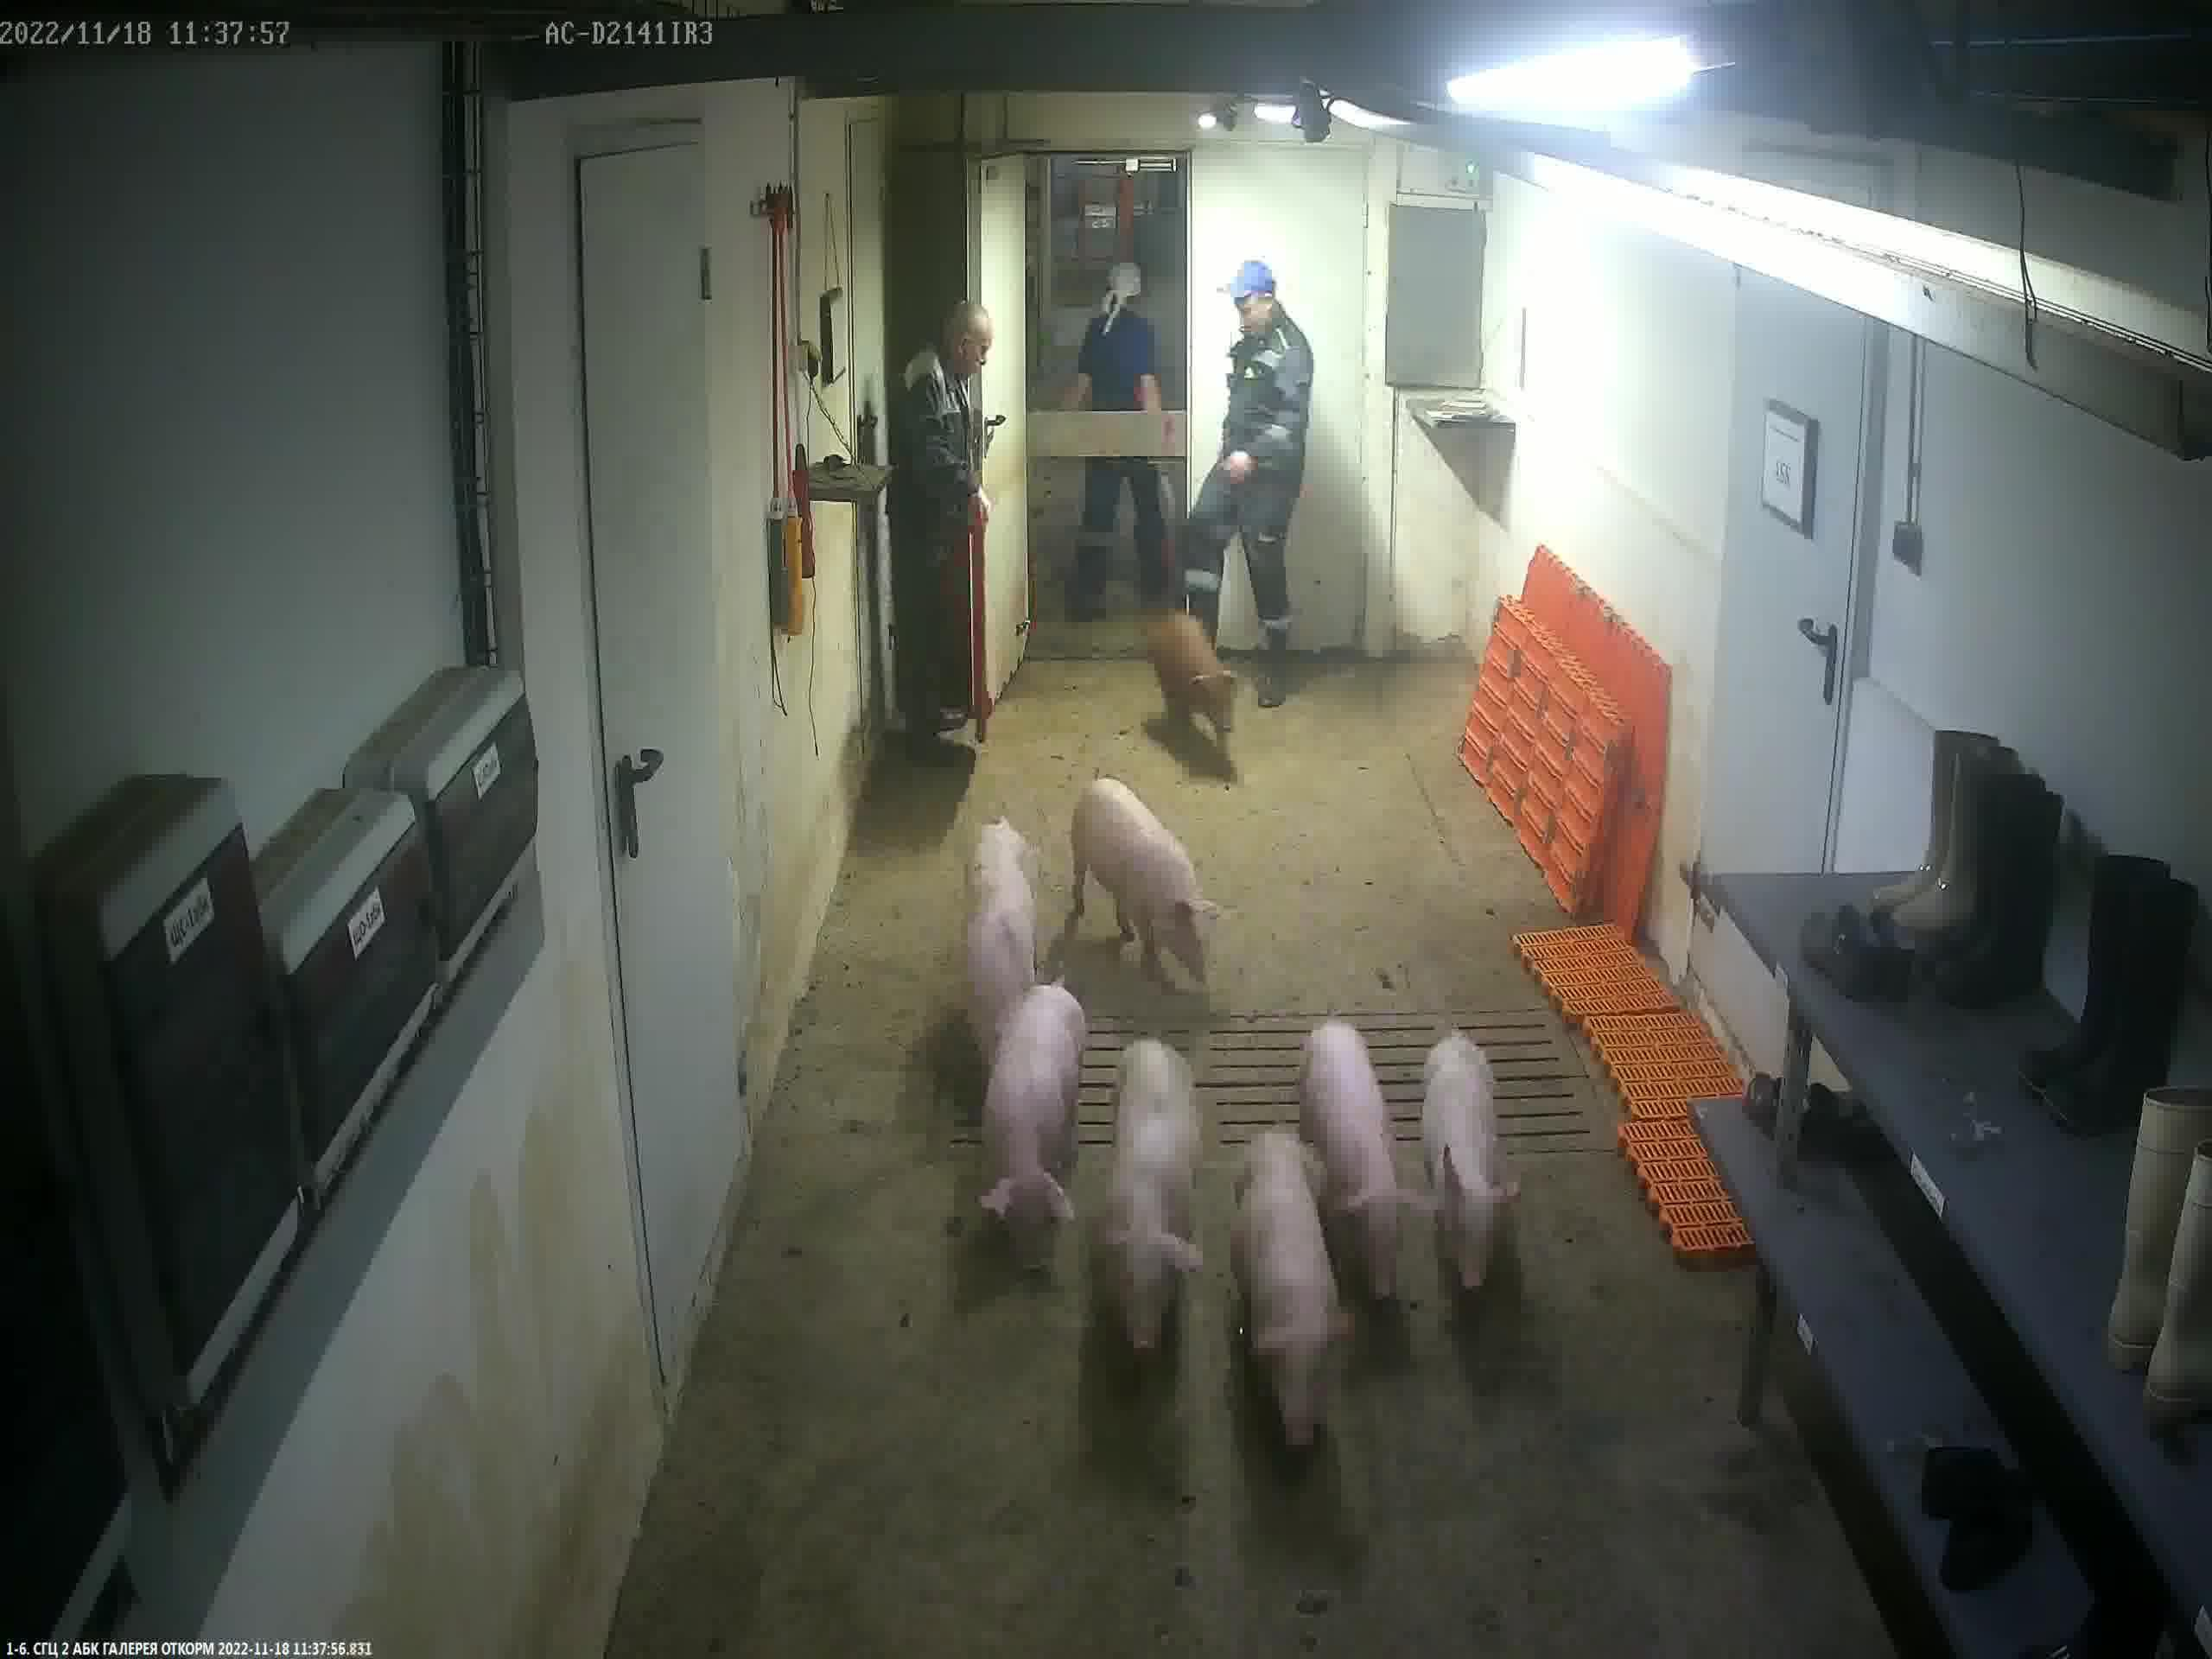Pigs: (1301, 1025, 1437, 1314), (1230, 1134, 1353, 1448), (1073, 779, 1219, 993), (1106, 1040, 1200, 1359), (982, 986, 1085, 1227), (1425, 1037, 1521, 1288), (968, 817, 1035, 1056), (1148, 619, 1237, 739)
